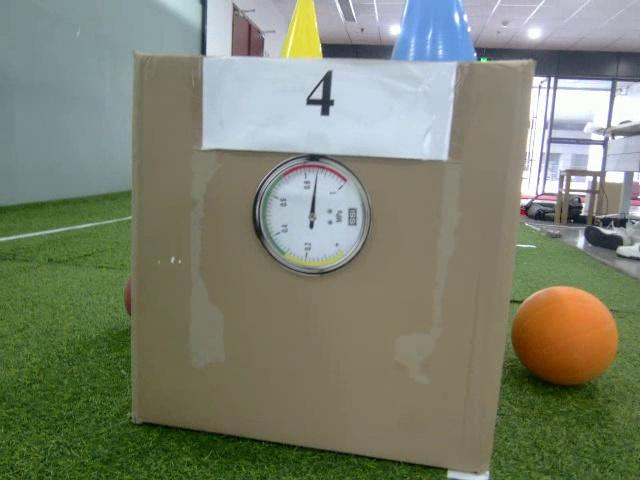4: (304, 64, 338, 120)
Dashboard: (252, 153, 372, 278)
blue_barrel: (385, 0, 483, 64)
orange_ball: (512, 286, 621, 390)
ssi: (344, 204, 359, 229)
yellow_barrel: (274, 0, 330, 62)
